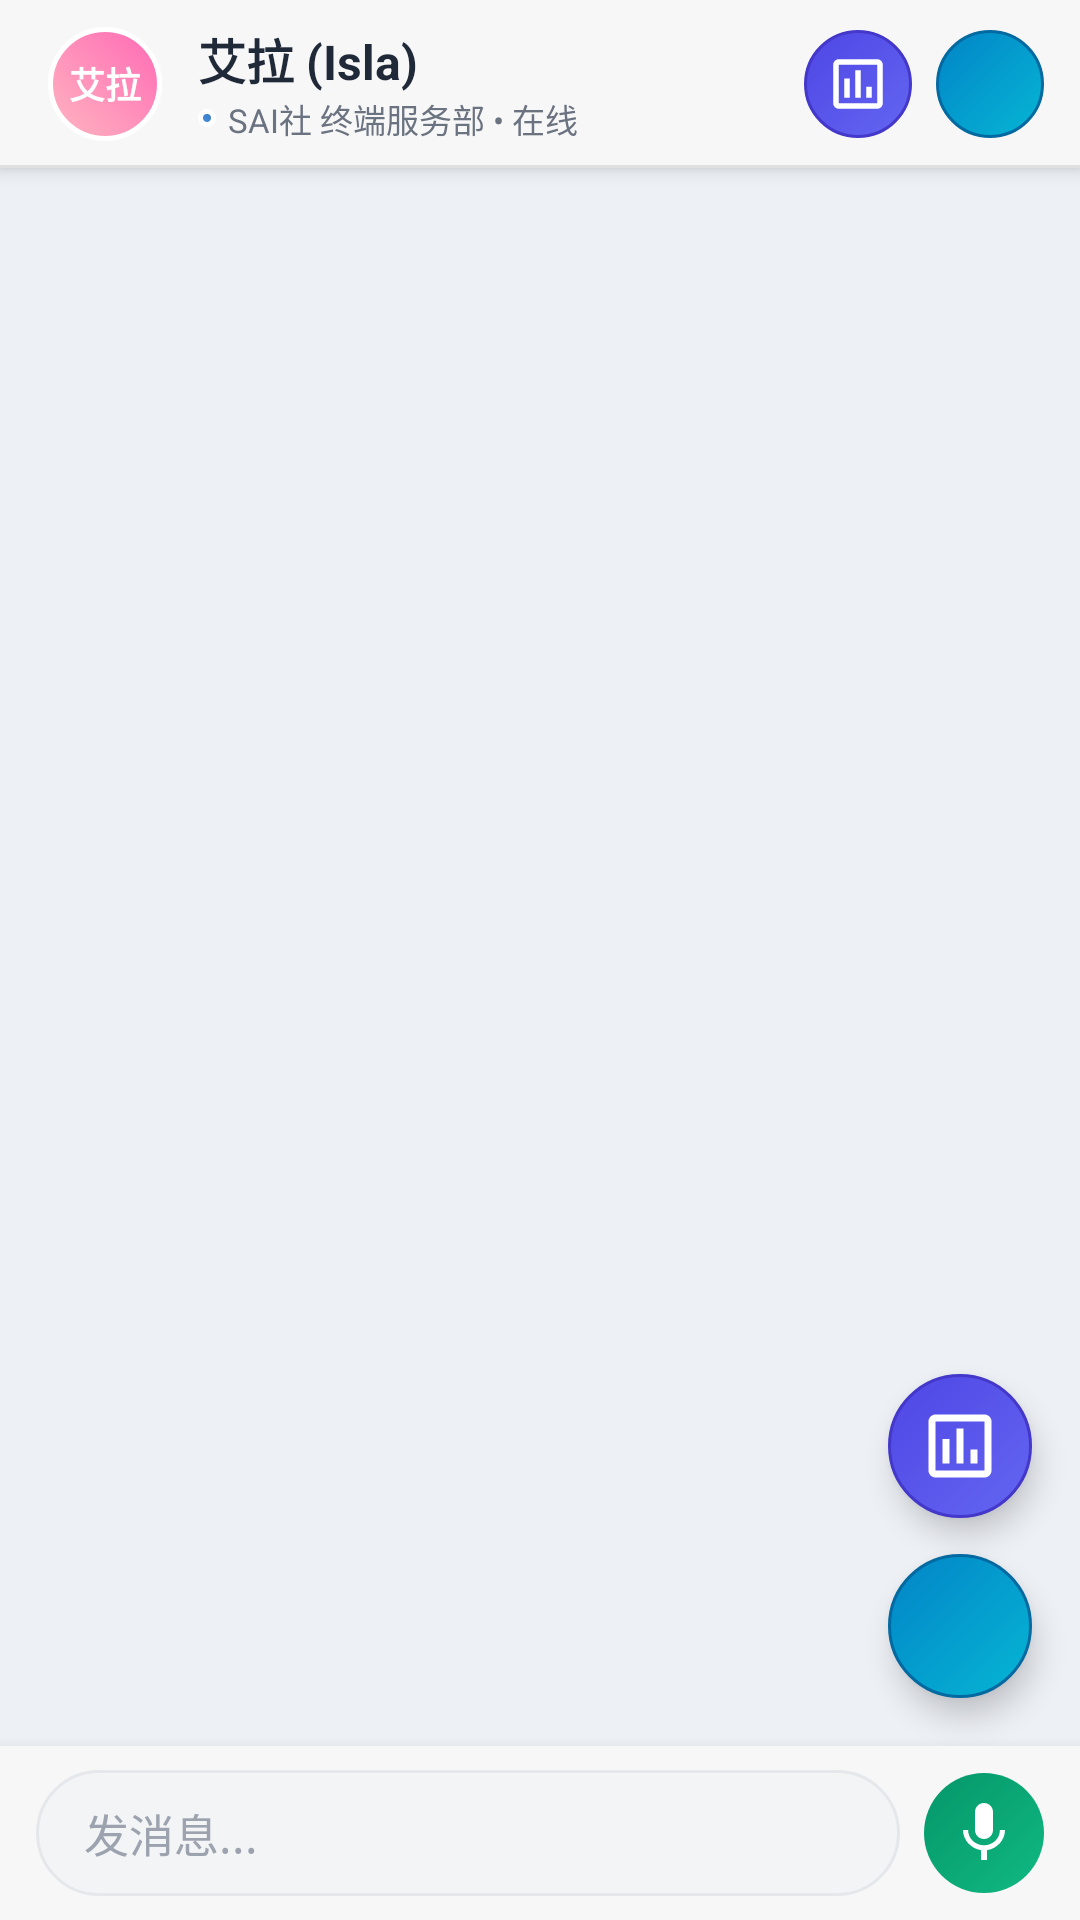

Named icons in this screenshot (1080*1920) and their bounding boxes, (x1, y1, x2, y2):
开始录音: (924, 1773, 1044, 1893)
查看日志: (804, 30, 912, 138), (888, 1374, 1032, 1518)
